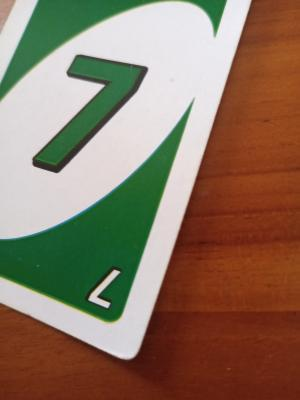green: (23, 8, 153, 302)
num_7: (80, 259, 125, 317)
